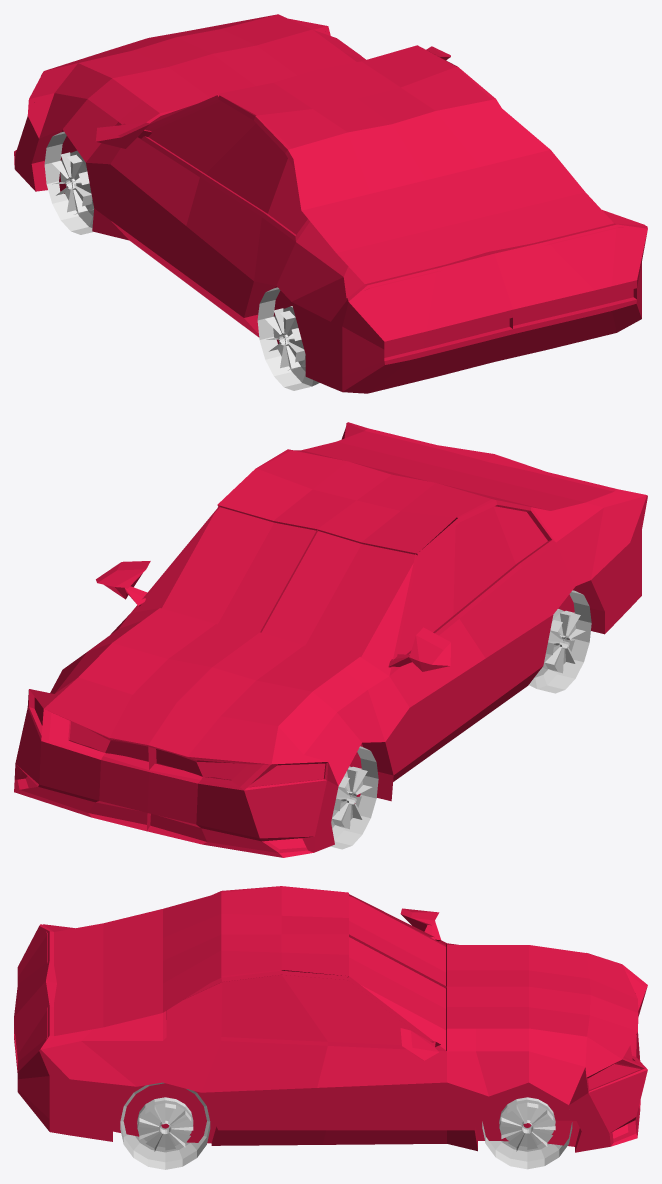
Rendered from SportsCar.glb.
The picture shows the model from 3 angles, top to bottom: view 1: azimuth 30°, elevation 25°; view 2: azimuth 150°, elevation 25°; view 3: azimuth 270°, elevation 25°; orthographic projection. The views are drawn at different scales.
Parts seen in each view (by area): view 1: Cube; view 2: Cube; view 3: Cube.
Boxes of the visible parts, box(x1,y1,x2,y2) form: Cube: box(14, 14, 647, 393); Cube: box(14, 422, 647, 857); Cube: box(14, 886, 647, 1169).
Size of the model in its own units: 2.52 by 1.44 by 4.56.
